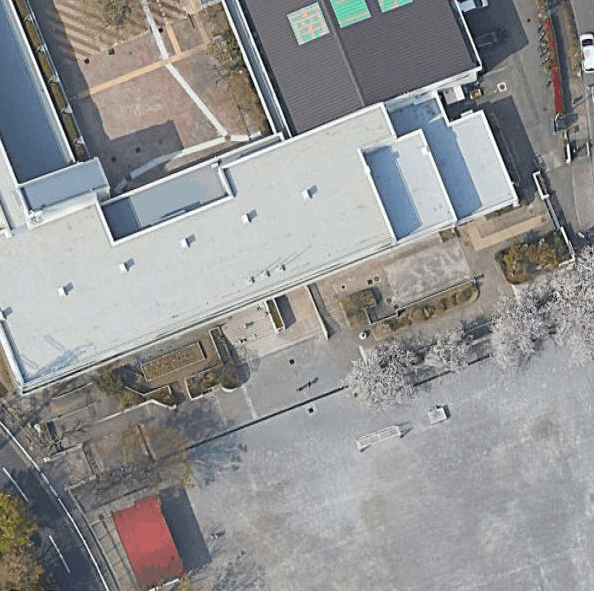flatroof: (0, 55, 529, 376)
